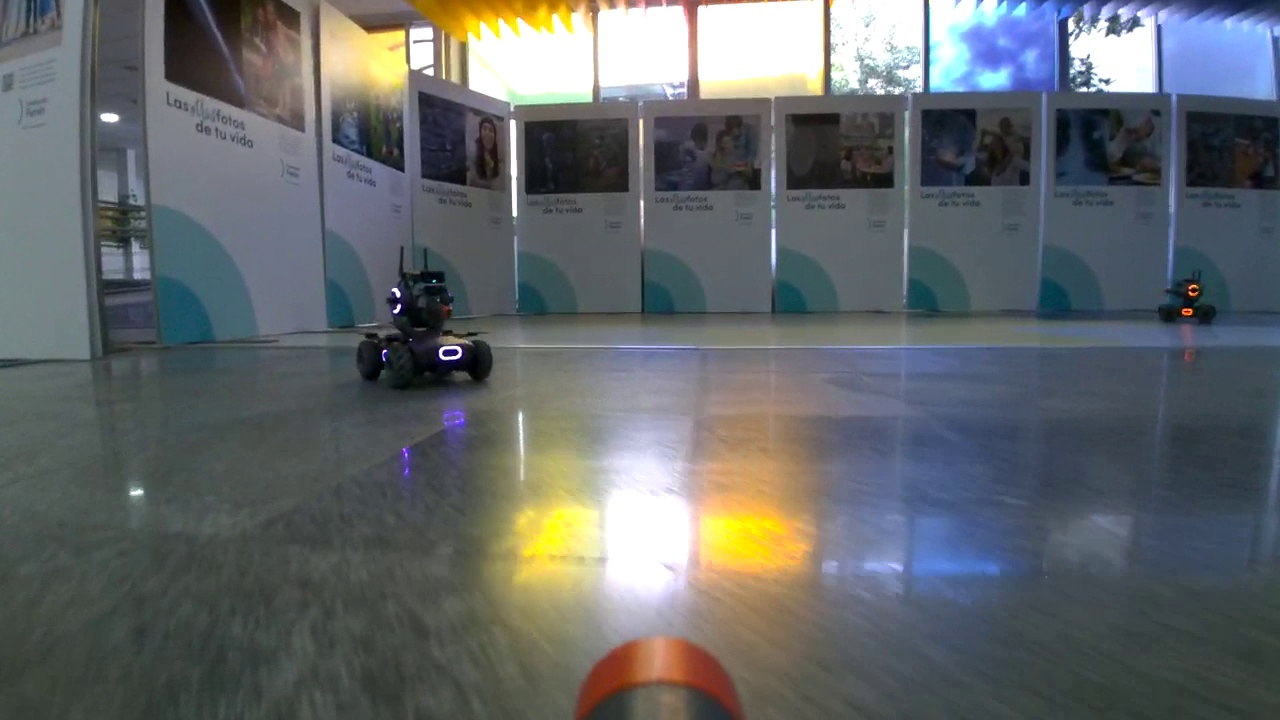robot: (349, 244, 495, 385), (1158, 270, 1218, 326)
